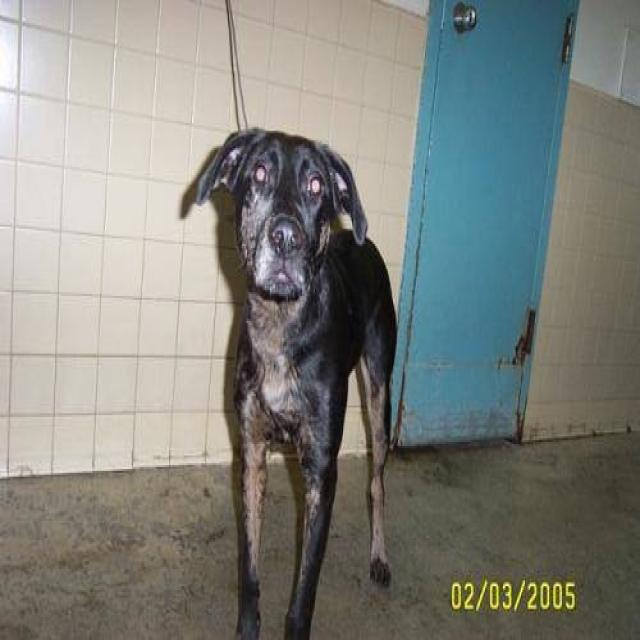dog: (195, 125, 396, 638)
